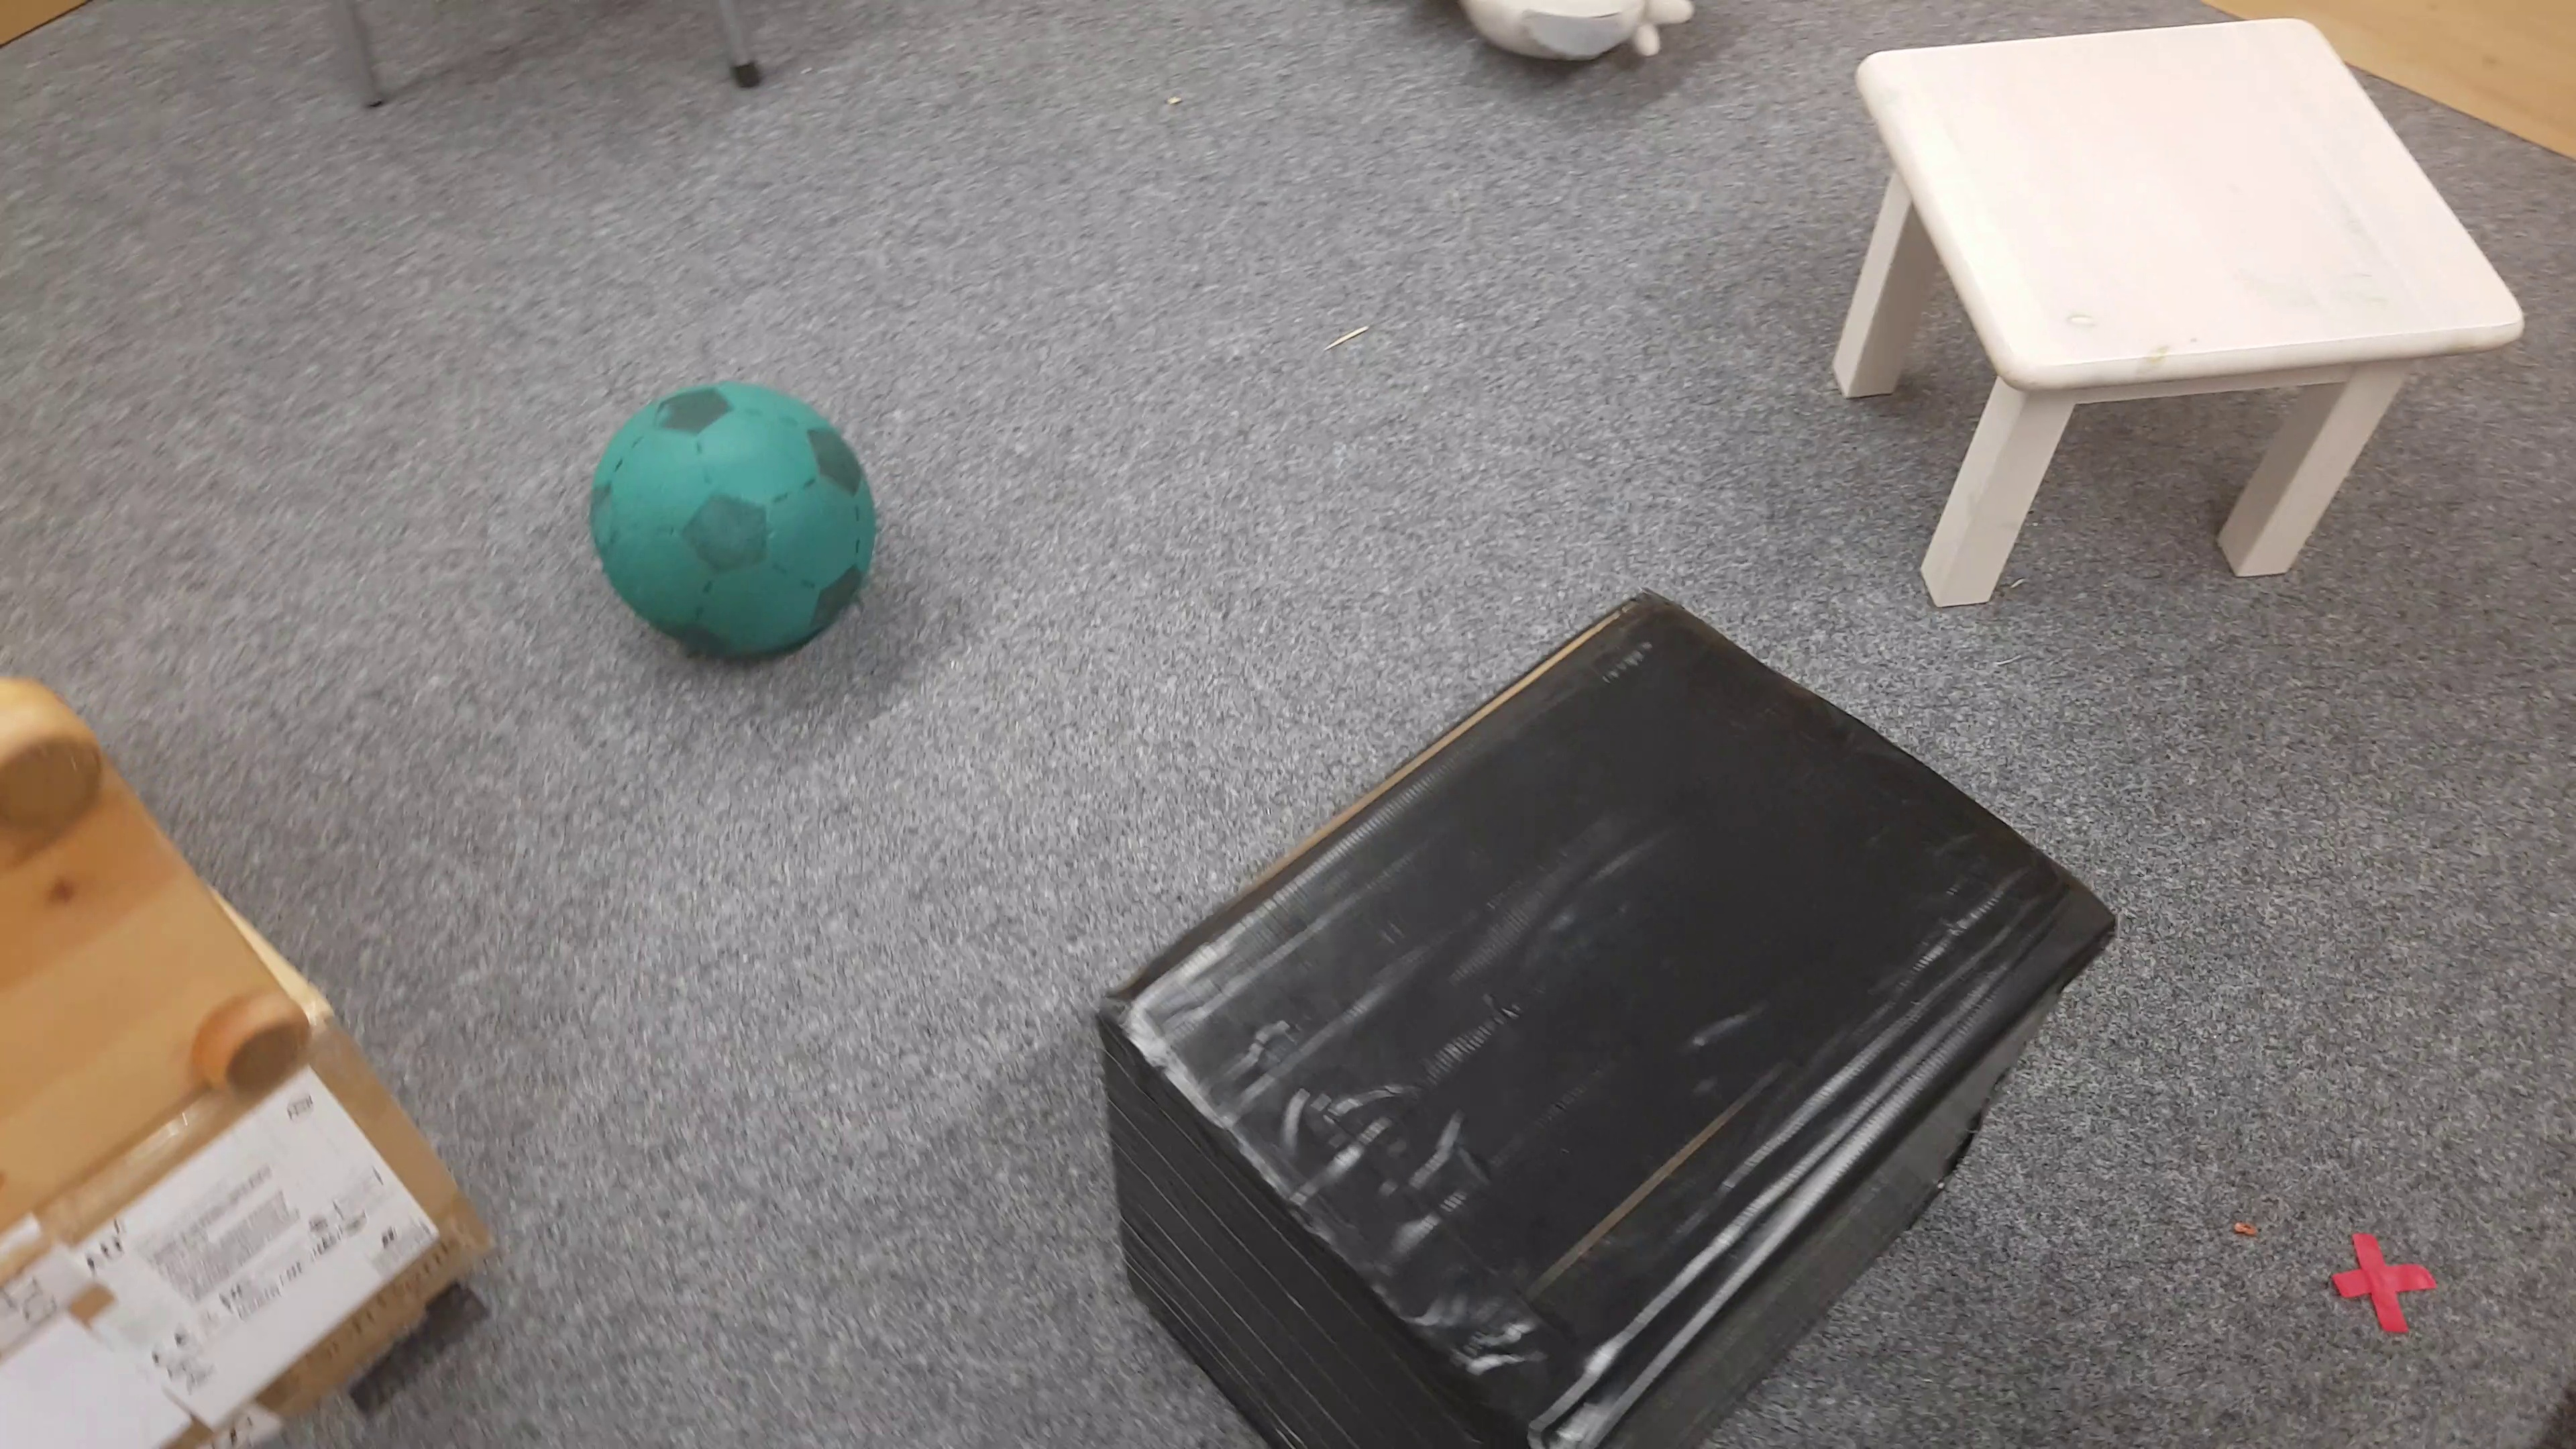grasp: (1408, 0, 1698, 83)
kick: (587, 386, 883, 663)
push: (1099, 594, 2118, 1449)
